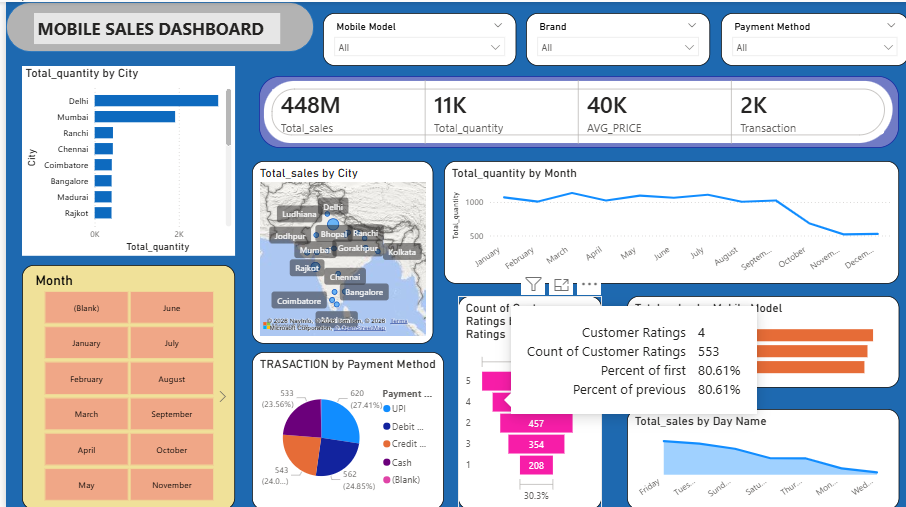

The dashboard page shown, as its layout file describes it:
{"tool":"powerbi","page":{"name":"Page 4","canvas":[1280,720],"ordinal":0},"visuals":[{"type":"barChart","fields":{"Y":["sales_data.Total_quantity"],"Category":["sales_data.City"]},"box":[22.7,90.7,301.9,269.3],"z":0},{"type":"slicer","fields":{"Values":["Custom_calender.Date.Variation.Date Hierarchy.Month"]},"box":[22.7,372.8,301.9,347.2],"z":1},{"type":"cardVisual","fields":{"Data":["sales_data.Total_sales","sales_data.Total_quantity","sales_data.AVG_PRICE","sales_data.TRASACTION"]},"box":[358.6,104.9,907.1,102],"z":3},{"type":"slicer","fields":{"Values":["sales_data.Mobile Model"]},"box":[449.3,15.6,273.5,75.1],"z":4},{"type":"slicer","fields":{"Values":["sales_data.Brand"]},"box":[737,15.6,260.8,75.1],"z":5},{"type":"slicer","fields":{"Values":["sales_data.Payment Method"]},"box":[1013.4,15.6,266.5,75.1],"z":6},{"type":"shape","box":[0,0,436.5,70.9],"z":7},{"type":"textbox","box":[39.7,15.6,348.7,43.9],"z":9},{"type":"map","fields":{"Category":["sales_data.City"],"Size":["sales_data.Total_sales"]},"box":[348.7,225.4,256.5,259.4],"z":10},{"type":"lineChart","fields":{"Y":["sales_data.Total_quantity"],"Category":["Custom_calender.Date.Variation.Date Hierarchy.Month"]},"box":[620.8,225.4,644.9,174.3],"z":11},{"type":"funnel","fields":{"Category":["sales_data.Customer Ratings"],"Y":["CountNonNull(sales_data.Customer Ratings)"]},"box":[640.6,416.7,204.1,303.3],"z":12},{"type":"pieChart","fields":{"Category":["sales_data.Payment Method"],"Y":["sales_data.TRASACTION"]},"box":[348.7,496.1,272.1,223.9],"z":13},{"type":"barChart","fields":{"Y":["sales_data.Total_sales"],"Category":["sales_data.Mobile Model"]},"box":[880.2,416.7,385.5,130.4],"z":14},{"type":"areaChart","fields":{"Category":["Custom_calender.Day Name"],"Y":["sales_data.Total_sales"]},"box":[880.2,576.9,385.5,143.1],"z":15}]}

Visuals, with their boxes in screenshot pixels (x1, y1, x2, y2), scaled from the page's 1280x720 canvas onto the 906x507 screenshot:
barChart - sales_data.Total_quantity x sales_data.City: [left=16, top=64, right=230, bottom=254]
slicer - Custom_calender.Date.Variation.Date Hierarchy.Month: [left=16, top=263, right=230, bottom=506]
cardVisual - sales_data.Total_sales x sales_data.Total_quantity: [left=254, top=74, right=896, bottom=146]
slicer - sales_data.Mobile Model: [left=318, top=11, right=512, bottom=64]
slicer - sales_data.Brand: [left=522, top=11, right=706, bottom=64]
slicer - sales_data.Payment Method: [left=717, top=11, right=905, bottom=64]
shape: [left=0, top=0, right=309, bottom=50]
textbox: [left=28, top=11, right=275, bottom=42]
map - sales_data.City x sales_data.Total_sales: [left=247, top=159, right=428, bottom=341]
lineChart - sales_data.Total_quantity x Custom_calender.Date.Variation.Date Hierarchy.Month: [left=439, top=159, right=896, bottom=281]
funnel - sales_data.Customer Ratings x CountNonNull(sales_data.Customer Ratings): [left=453, top=293, right=598, bottom=506]
pieChart - sales_data.Payment Method x sales_data.TRASACTION: [left=247, top=349, right=439, bottom=506]
barChart - sales_data.Total_sales x sales_data.Mobile Model: [left=623, top=293, right=896, bottom=385]
areaChart - Custom_calender.Day Name x sales_data.Total_sales: [left=623, top=406, right=896, bottom=506]
